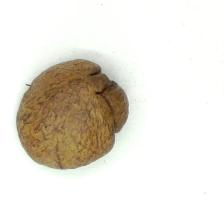NG: (84, 60, 129, 143)
